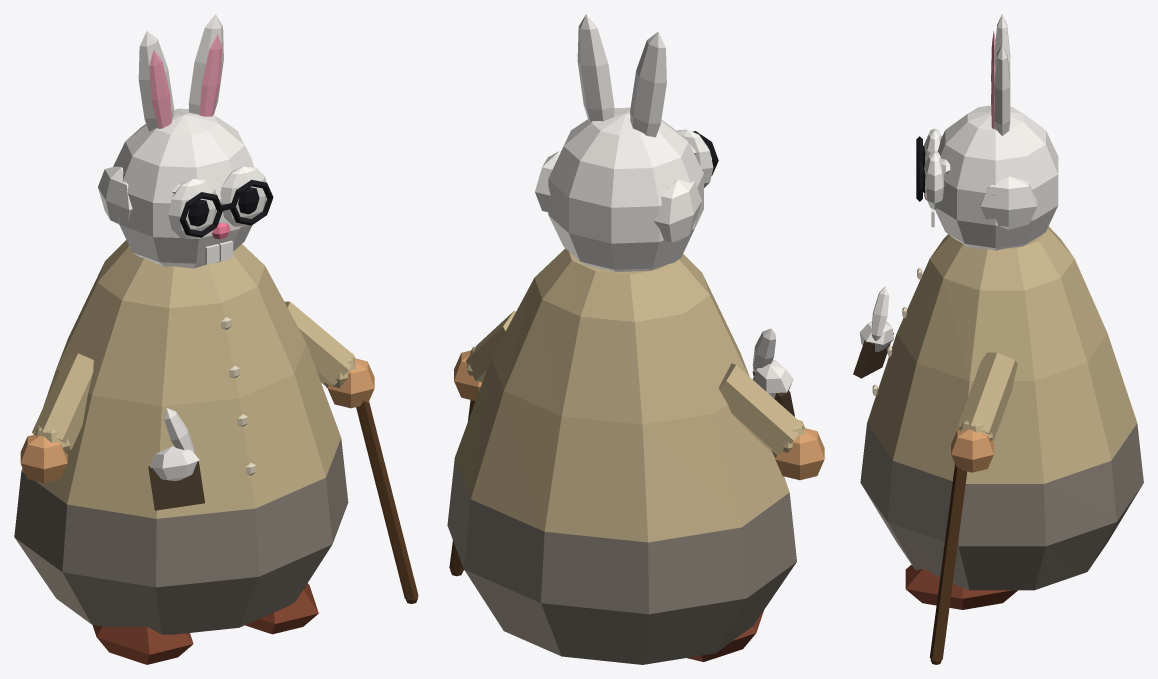
Rendered from npc_abuelo_conejo.glb.
3 renders of one model, left to right at view 1: azimuth 30°, elevation 25°; view 2: azimuth 150°, elevation 25°; view 3: azimuth 270°, elevation 25°, orthographic. The views are drawn at different scales.
Parts seen in each view (by area): view 1: body_cardigan_beige, body_abuelo_pants, mask_mask_rabbit, arms_cardigan_beige, legs_slippers, mask_white, arms_skin_arena, cane_cane, mask_mask_rabbit_ear (×2), pocket_mask_rabbit, body_cardigan_pocket, glasses_black (+2 smaller); view 2: body_cardigan_beige, body_abuelo_pants, mask_mask_rabbit, arms_cardigan_beige, face_white, arms_skin_arena, pocket_mask_rabbit, mask_white, legs_slippers; view 3: body_cardigan_beige, body_abuelo_pants, mask_mask_rabbit, arms_cardigan_beige, cane_cane, face_white, legs_slippers, arms_skin_arena, mask_white, pocket_mask_rabbit, body_cardigan_pocket, glasses_black.
Boxes of the visible parts, x1,y1,x2,y2 form: body_cardigan_beige: (21,240,341,518); body_abuelo_pants: (14,438,348,634); mask_mask_rabbit: (113,14,254,268); arms_cardigan_beige: (32,301,356,454); legs_slippers: (92,583,318,664); mask_white: (168,166,266,264); arms_skin_arena: (20,358,374,483); cane_cane: (356,401,418,603); mask_mask_rabbit_ear (×2): (149,34,222,128); pocket_mask_rabbit: (150,408,199,480); body_cardigan_pocket: (148,461,204,510); glasses_black: (179,179,273,237); body_cardigan_beige: (455,248,789,542); body_abuelo_pants: (447,458,796,664); mask_mask_rabbit: (548,14,703,271); arms_cardigan_beige: (466,311,805,456); face_white: (535,144,701,242); arms_skin_arena: (454,350,824,480); pocket_mask_rabbit: (752,328,793,398); mask_white: (676,129,713,187); legs_slippers: (687,610,763,661); body_cardigan_beige: (867,226,1137,483); body_abuelo_pants: (860,423,1143,590); mask_mask_rabbit: (935,14,1058,250); arms_cardigan_beige: (958,352,1017,441); cane_cane: (929,464,967,664); face_white: (941,135,1037,229); legs_slippers: (905,564,1017,609); arms_skin_arena: (951,429,993,472); mask_white: (924,128,944,227); pocket_mask_rabbit: (859,286,893,351); body_cardigan_pocket: (853,333,893,378); glasses_black: (916,136,922,201).
Bounding box in the file's own units: 1.2 × 1.84 × 0.8824.
